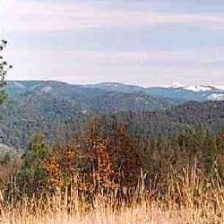neutral: (3, 3, 224, 223)
